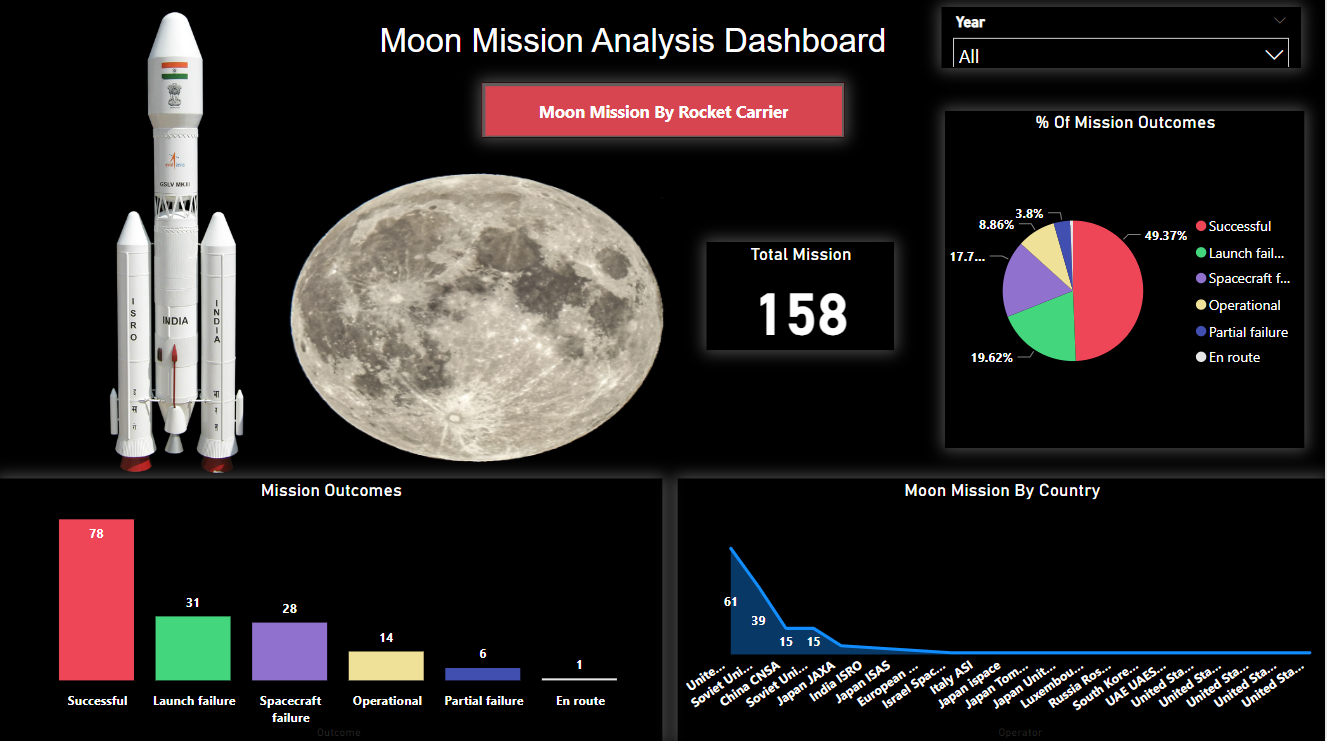

What the dashboard file says about the page in this screenshot:
{"tool":"powerbi","page":{"name":"Mission Outcomes","canvas":[1280,720],"ordinal":0},"visuals":[{"type":"textbox","box":[351.2,20,521.2,63.8],"z":0},{"type":"slicer","fields":{"Values":["Calendar.Year"]},"box":[908.8,11.2,346.2,58.8],"z":1000},{"type":"card","title":"Total Mission","fields":{"Values":["CountNonNull(Moonlanding.Mission)"]},"box":[682.6,237.6,180.9,103.7],"z":2000},{"type":"columnChart","title":"Mission Outcomes","fields":{"Category":["Moonlanding.Outcome"],"Y":["CountNonNull(Moonlanding.Outcome)"]},"box":[0,465,640,255],"z":3000},{"type":"stackedAreaChart","title":"Moon Mission By Country","fields":{"Category":["Moonlanding.Operator"],"Y":["CountNonNull(Moonlanding.Mission)"]},"box":[655,465,625,255],"z":4000},{"type":"pieChart","title":"% Of Mission Outcomes","fields":{"Category":["Moonlanding.Outcome"],"Y":["CountNonNull(Moonlanding.Outcome)"]},"box":[912.5,111.2,346.2,325],"z":5000},{"type":"image","box":[0,8.8,342.5,458.8],"z":6000},{"type":"actionButton","box":[465,83.8,350,53.8],"z":7000}]}

Visuals, with their boxes in screenshot pixels (x1, y1, x2, y2), scaled from the page's 1280x720 canvas onto the 1327x741 screenshot:
textbox: 364, 21, 904, 86
slicer - Calendar.Year: 942, 12, 1301, 72
"Total Mission" card: 708, 245, 895, 351
"Mission Outcomes" columnChart: 0, 479, 664, 740
"Moon Mission By Country" stackedAreaChart: 679, 479, 1326, 740
"% Of Mission Outcomes" pieChart: 946, 114, 1305, 449
image: 0, 9, 355, 481
actionButton: 482, 86, 845, 142
